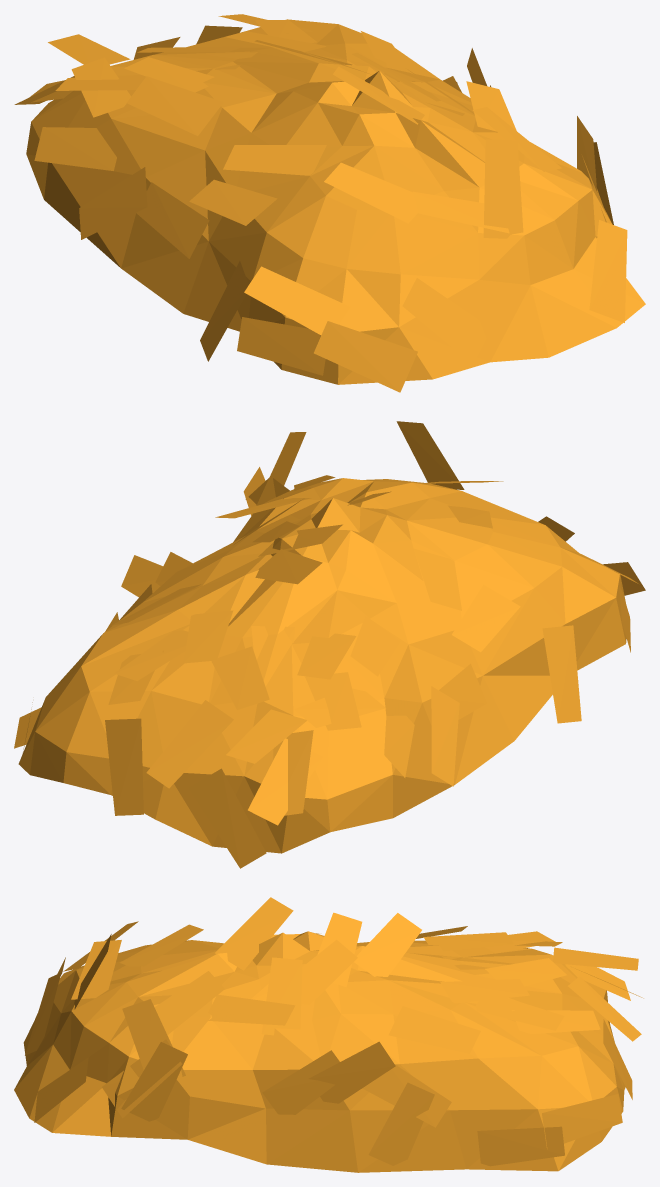
File: SM_Hay_Wheelbarrow_Wood_Dry.fbx
3 renders of one model, top to bottom at view 1: azimuth 30°, elevation 25°; view 2: azimuth 150°, elevation 25°; view 3: azimuth 270°, elevation 25°, orthographic. The views are drawn at different scales.
Parts seen in each view (by area): view 1: hay-wheelbarrow-wood-dry; view 2: hay-wheelbarrow-wood-dry; view 3: hay-wheelbarrow-wood-dry.
Part boxes in pixels (box(x1,y1,x2,y2)): hay-wheelbarrow-wood-dry: box(14, 14, 645, 392); hay-wheelbarrow-wood-dry: box(14, 421, 645, 868); hay-wheelbarrow-wood-dry: box(14, 897, 643, 1172).
Size of the model in its own units: 0.4844 by 0.2698 by 0.7871.
